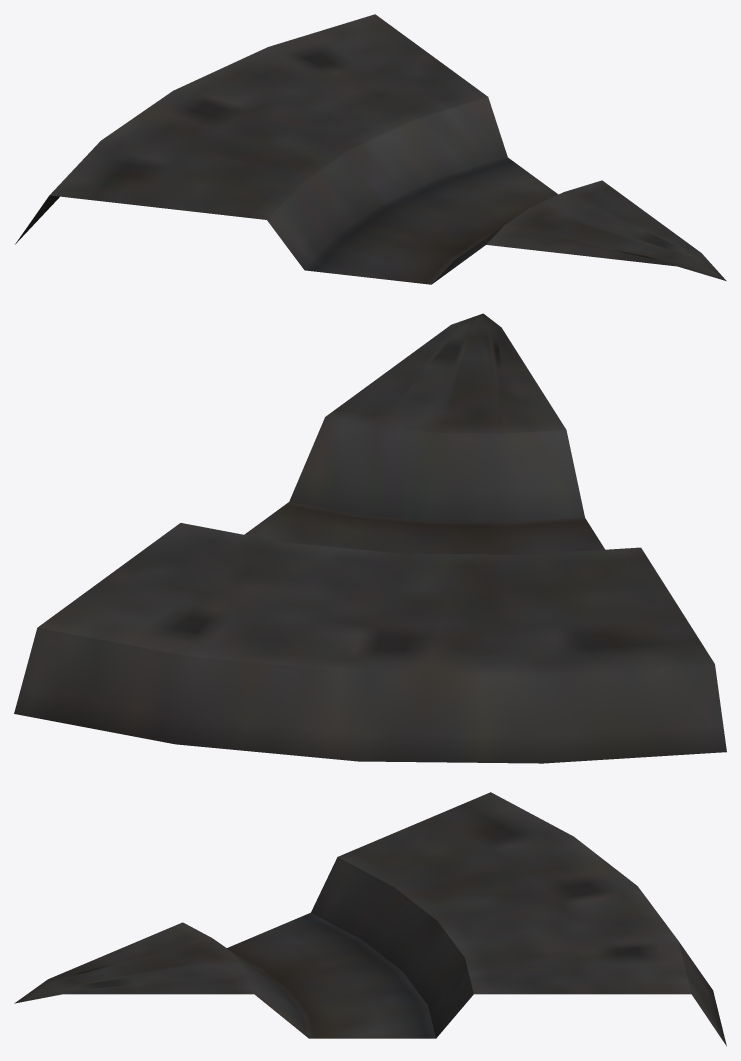
File: lab_floor_welder_convex_45_tiny_noyellow.dae
3 renders of one model, top to bottom at view 1: azimuth 30°, elevation 25°; view 2: azimuth 150°, elevation 25°; view 3: azimuth 270°, elevation 25°, orthographic. The views are drawn at different scales.
Visible parts, largest first — view 1: floor_welder_convex_45_tiny_noyellow; view 2: floor_welder_convex_45_tiny_noyellow; view 3: floor_welder_convex_45_tiny_noyellow.
Boxes of the visible parts, bbox=[...] form: floor_welder_convex_45_tiny_noyellow: bbox=[15, 14, 726, 284]; floor_welder_convex_45_tiny_noyellow: bbox=[14, 313, 726, 763]; floor_welder_convex_45_tiny_noyellow: bbox=[14, 792, 726, 1046].
Size of the model in its own units: 0.2206 by 0.0254 by 0.3125.
